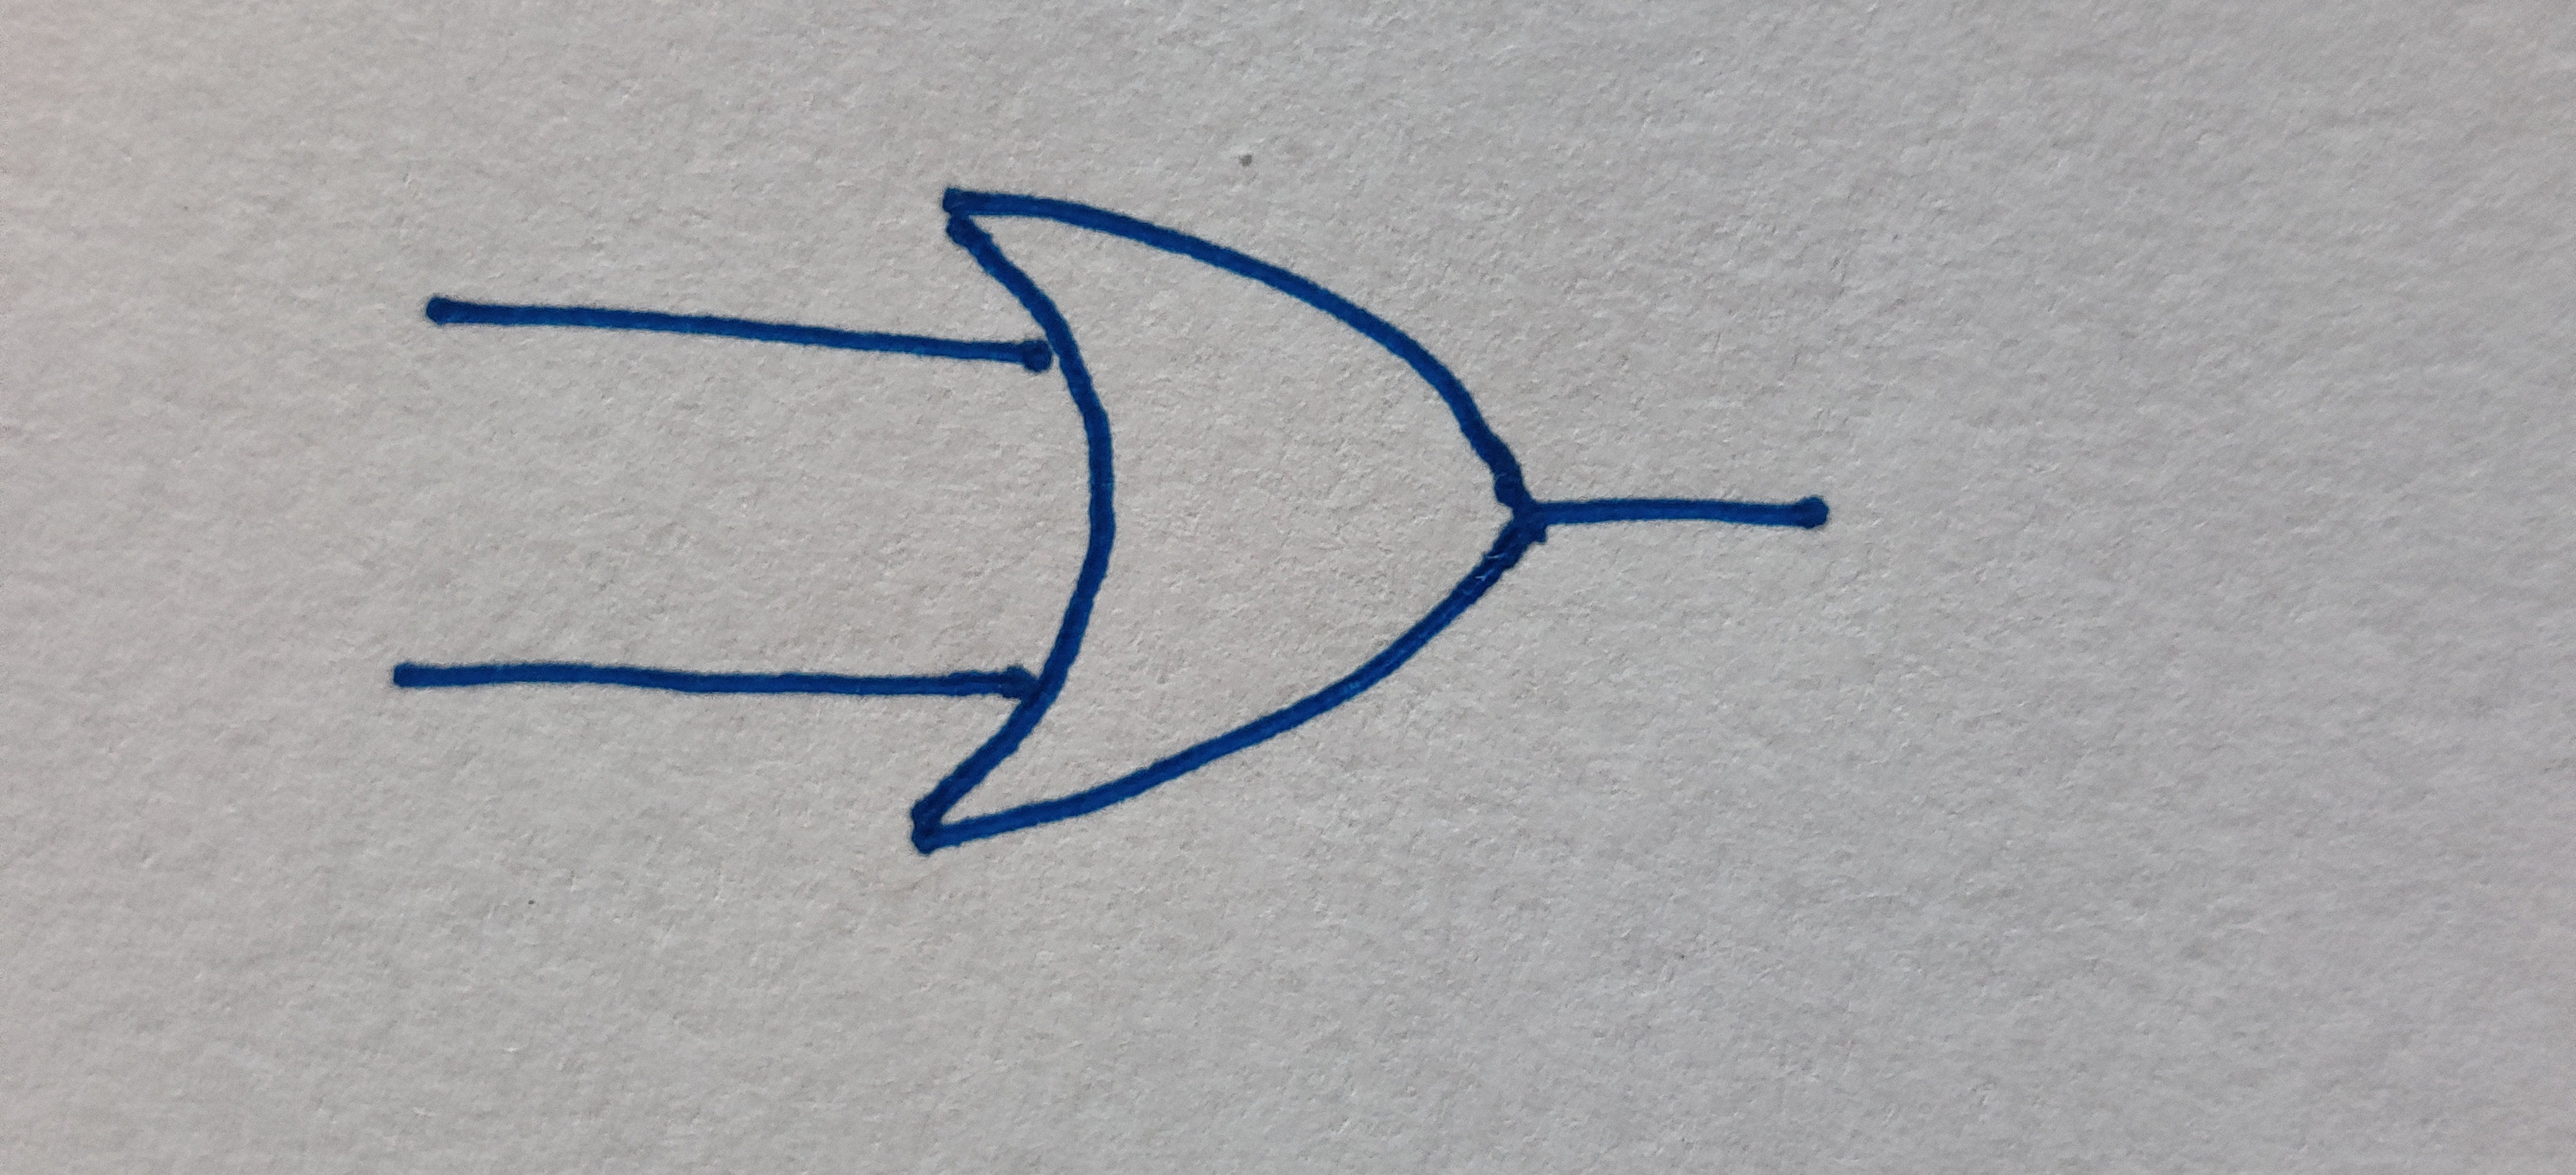or: (912, 192, 1548, 853)
